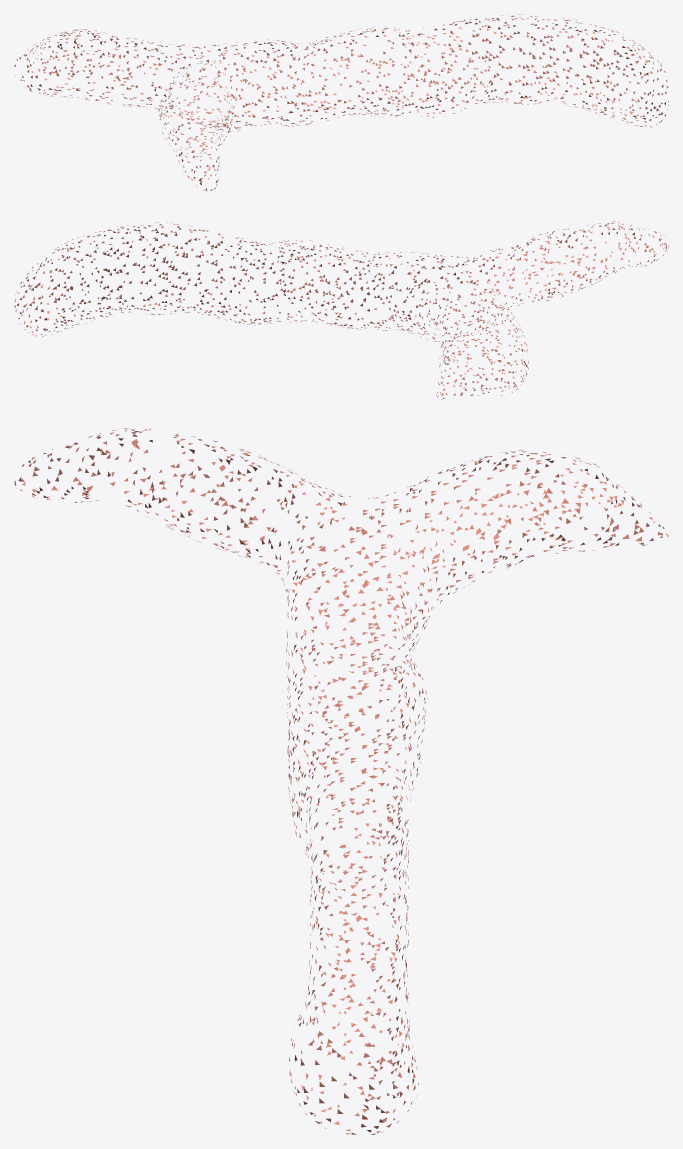
File: morph_002.glb
3 views of the same model, one above another, from view 1: azimuth 30°, elevation 25°; view 2: azimuth 150°, elevation 25°; view 3: azimuth 270°, elevation 25° (orthographic). The views are drawn at different scales.
Bounding box in the file's own units: 128 × 40 × 78.79.
